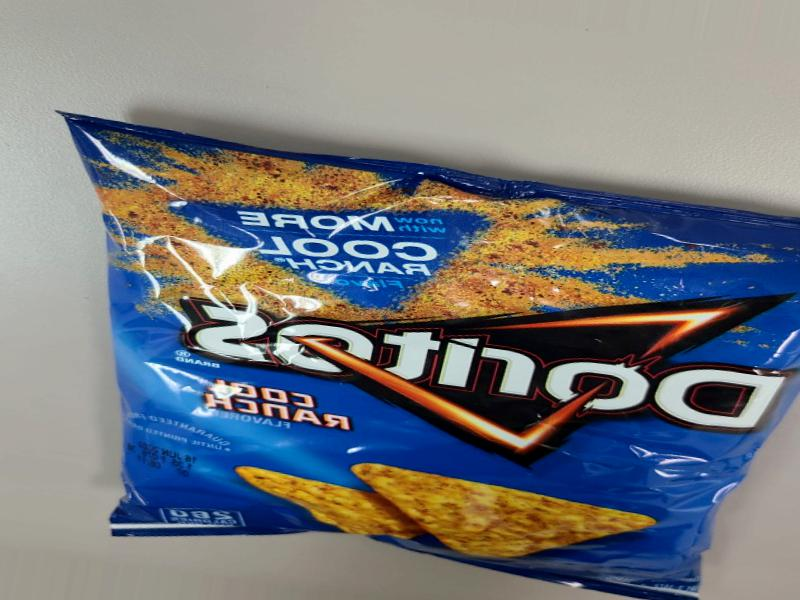doritos: (63, 223, 800, 568)
